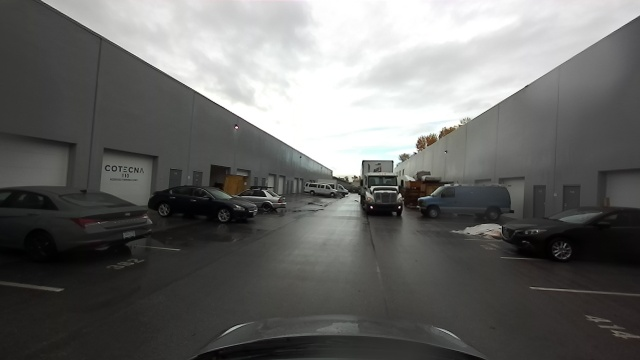car: (1, 182, 152, 254), (498, 205, 637, 260), (148, 181, 258, 227), (416, 175, 515, 220), (354, 157, 407, 218), (252, 187, 284, 211), (305, 181, 338, 197)
